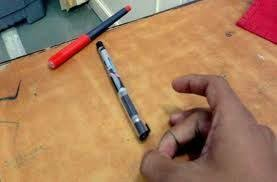pen: (47, 6, 132, 73), (94, 41, 147, 138)
